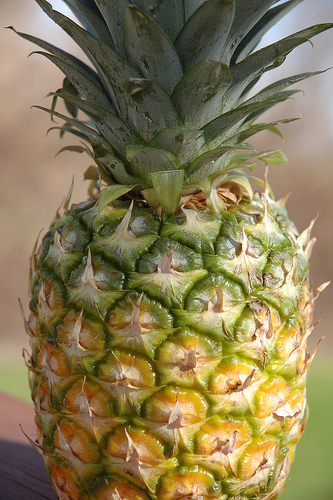pineapple: (7, 0, 331, 498)
